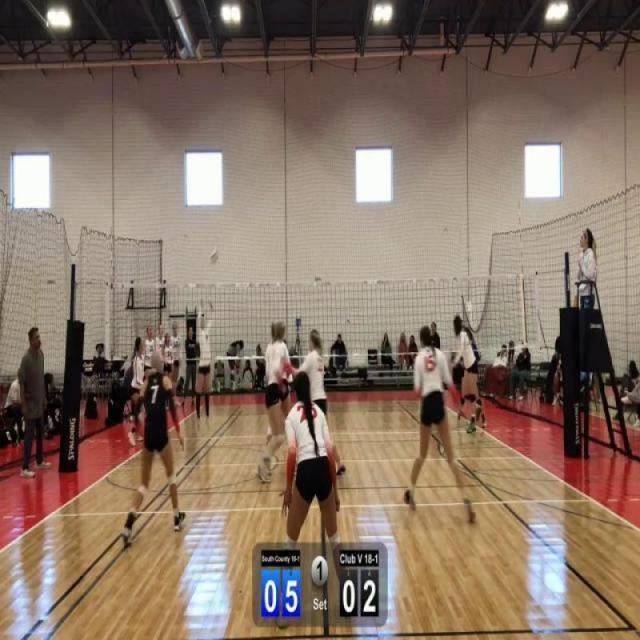volleyball: (209, 247, 219, 266)
